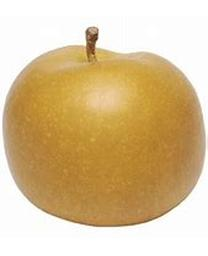apple: (3, 28, 205, 226)
